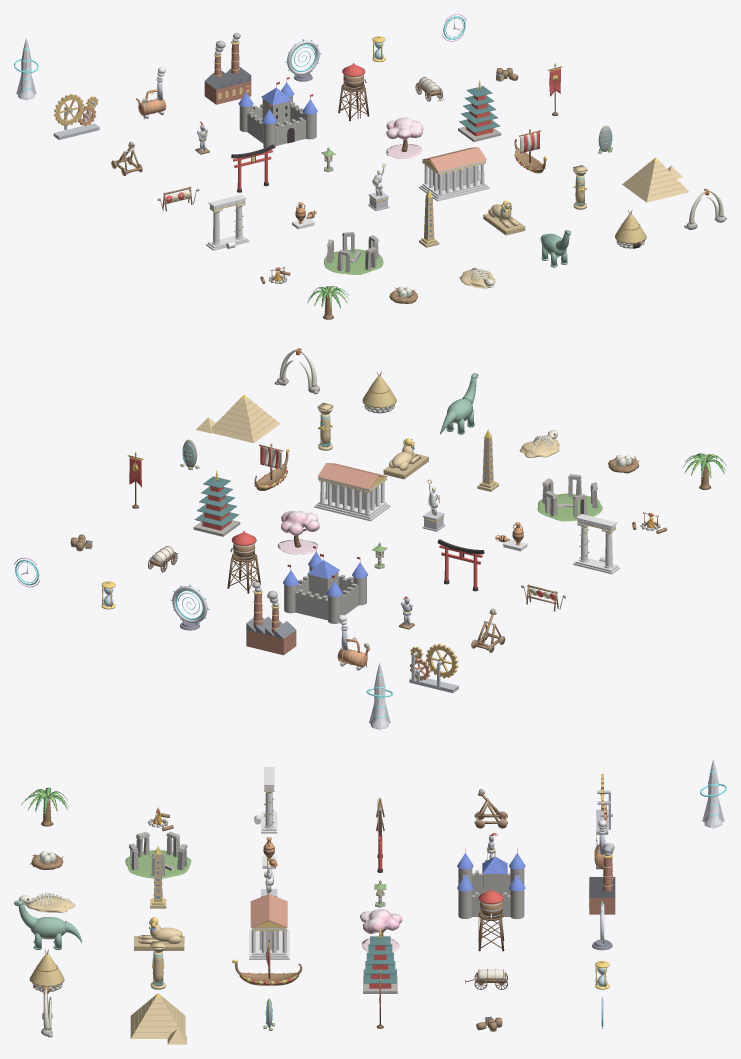
Rendered from RunwayWorld2.fbx.
The picture shows the model from 3 angles, top to bottom: view 1: azimuth 30°, elevation 25°; view 2: azimuth 150°, elevation 25°; view 3: azimuth 270°, elevation 25°; orthographic projection. The views are drawn at different scales.
Parts seen in each view (by area): view 1: CastleStone, TempleMarble, PyramidStone, ColumnMarble, MegalithStone, StackBrick, PagodaRoofs, TempleRoof, CastleRoofs, BrontoBody, MegalithMoss, GearBrass (+6 smaller); view 2: CastleStone, TempleMarble, PyramidStone, ColumnMarble, StackBrick, MegalithStone, PagodaRoofs, BrontoBody, TempleRoof, CastleRoofs, MegalithMoss, FutureSpireBody (+4 smaller); view 3: CastleStone, PyramidStone, MegalithStone, BrontoBody, PagodaRoofs, TempleMarble, TempleRoof, CastleRoofs, ColumnMarble, MegalithMoss, FutureSpireBody, StackBrick (+9 smaller).
Part boxes in pixels (bbox=[...]): CastleStone: bbox=[239, 96, 316, 148]; TempleMarble: bbox=[419, 160, 489, 201]; PyramidStone: bbox=[622, 160, 689, 202]; ColumnMarble: bbox=[206, 194, 249, 250]; MegalithStone: bbox=[327, 232, 379, 272]; StackBrick: bbox=[204, 44, 251, 104]; PagodaRoofs: bbox=[459, 86, 500, 132]; TempleRoof: bbox=[422, 147, 486, 171]; CastleRoofs: bbox=[238, 82, 317, 124]; BrontoBody: bbox=[540, 230, 570, 267]; MegalithMoss: bbox=[324, 249, 383, 274]; GearBrass: bbox=[54, 94, 98, 125]; CastleStone: bbox=[284, 566, 366, 623]; TempleMarble: bbox=[314, 477, 390, 521]; PyramidStone: bbox=[195, 398, 280, 443]; ColumnMarble: bbox=[573, 514, 619, 574]; StackBrick: bbox=[246, 594, 296, 655]; MegalithStone: bbox=[542, 474, 597, 518]; PagodaRoofs: bbox=[194, 476, 239, 526]; BrontoBody: bbox=[440, 373, 477, 434]; TempleRoof: bbox=[317, 463, 387, 489]; CastleRoofs: bbox=[283, 551, 367, 596]; MegalithMoss: bbox=[537, 493, 602, 521]; FutureSpireBody: bbox=[369, 663, 390, 730]; CastleStone: bbox=[458, 868, 524, 919]; PyramidStone: bbox=[130, 996, 186, 1044]; MegalithStone: bbox=[129, 831, 187, 876]; BrontoBody: bbox=[14, 900, 81, 949]; PagodaRoofs: bbox=[363, 936, 396, 983]; TempleMarble: bbox=[249, 927, 289, 959]; TempleRoof: bbox=[250, 894, 287, 927]; CastleRoofs: bbox=[457, 853, 525, 891]; ColumnMarble: bbox=[254, 767, 277, 833]; MegalithMoss: bbox=[125, 850, 191, 878]; FutureSpireBody: bbox=[702, 760, 724, 829]; StackBrick: bbox=[589, 858, 615, 914].
Bounding box in the file's own units: 14858 × 1952 × 19261.
